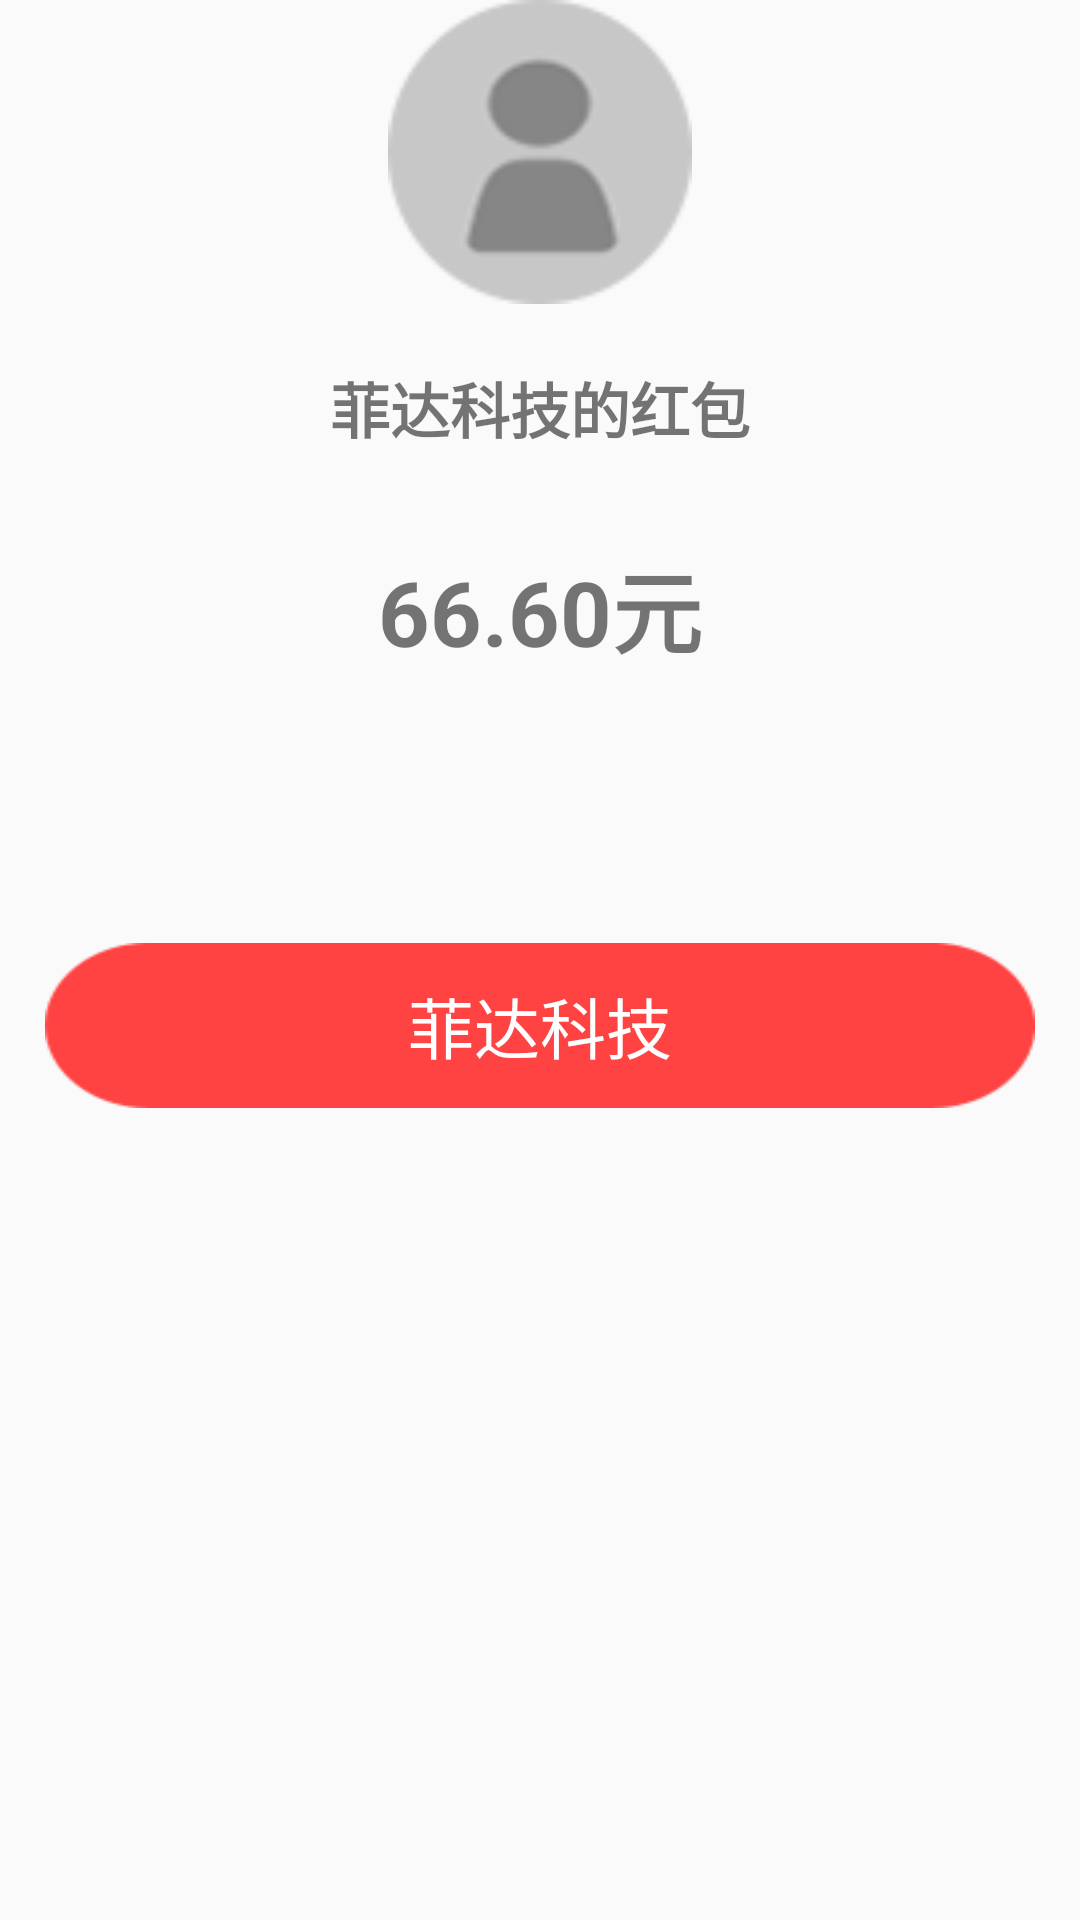

Icons on this 1080px x 1920px Android screen, each with the point to tap as point (x, y):
head circle: point (540, 152)
